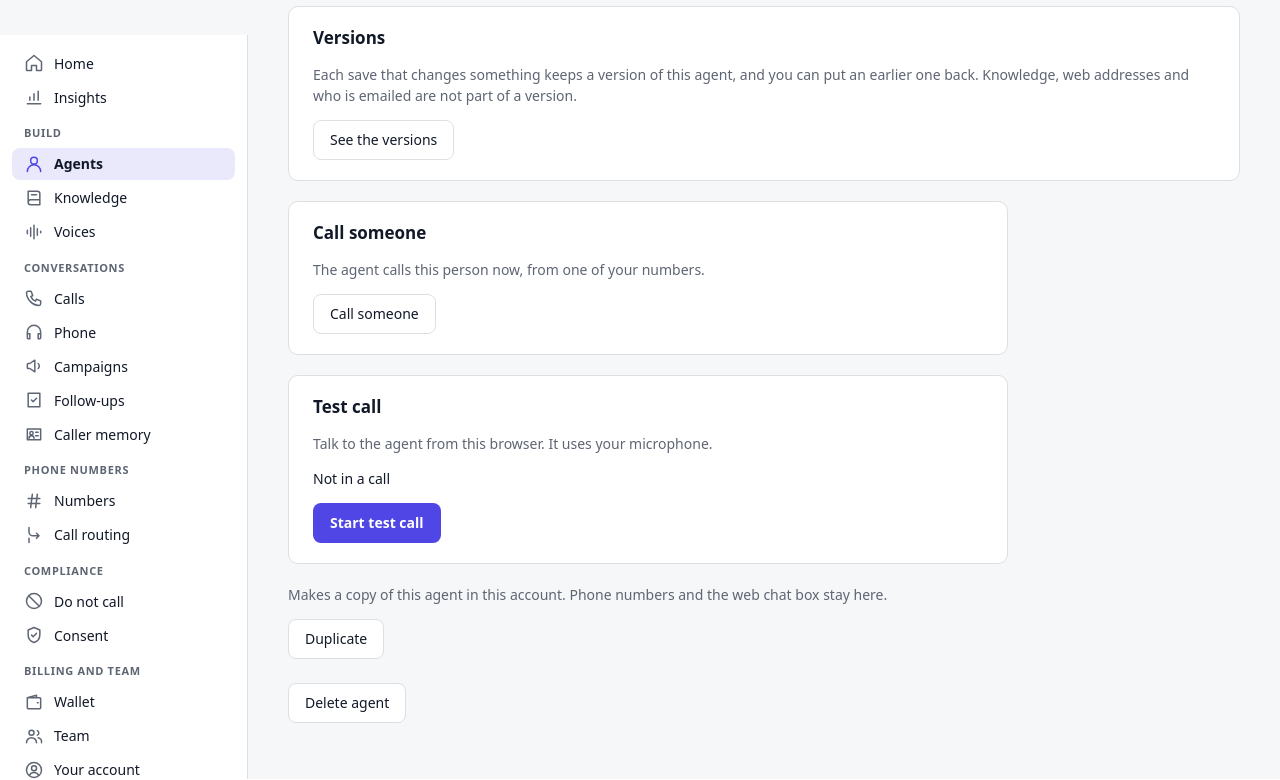
Test case: the test call › joins with exactly the session the backend answered, shows the transcript, and hangs up
(page scrolled)
Expected: the text "Not in a call" is shown, [313, 469, 390, 488]
What coordinates should you click on to do the following:
click the button "Start test call"
I would click on:
 (377, 523)
Its box is [313, 503, 440, 543].
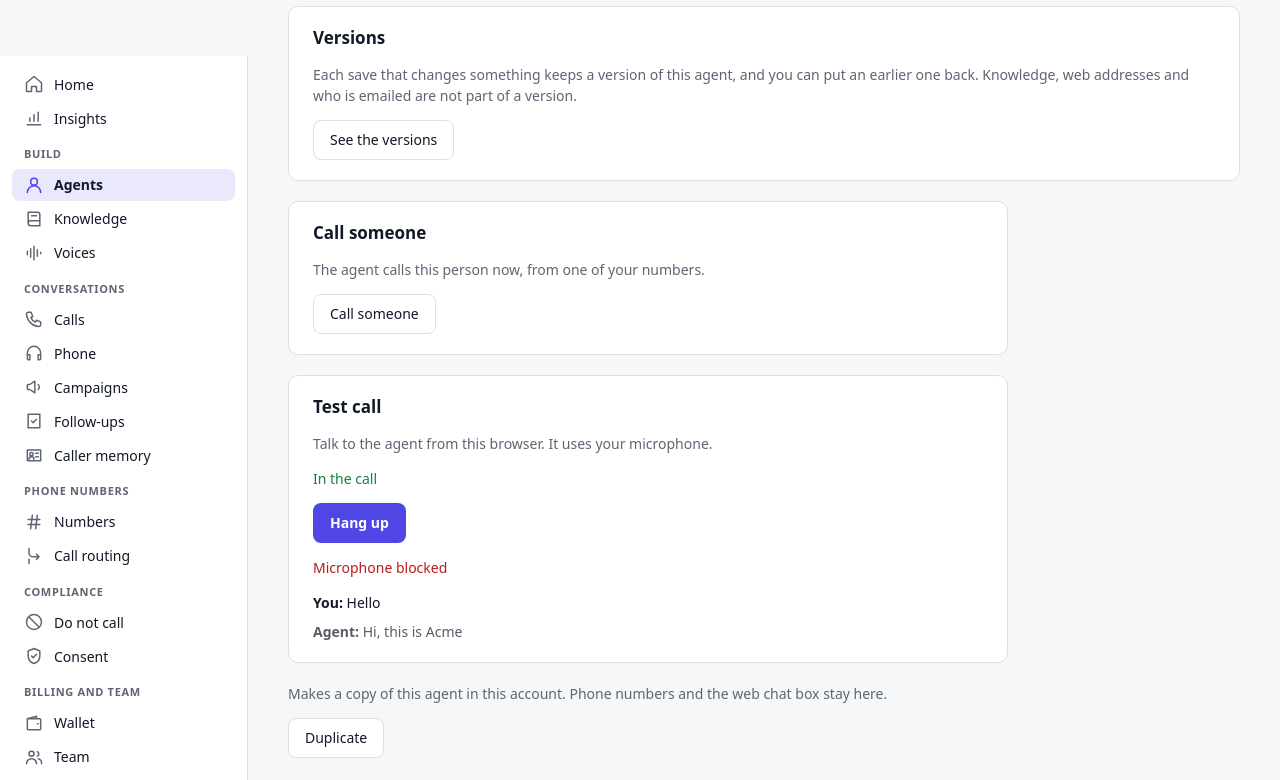
Now the text "In the call" is shown, box [313, 469, 377, 488]
Now the list items read "You: Hello", "Agent: Hi, this is Acme", in this order, box [313, 593, 380, 612]; [313, 622, 462, 641]
Now the message "Microphone blocked" is shown, box [313, 558, 447, 577]
What coordinates should you click on to do the following:
click the button "Hang up"
I would click on:
 (359, 523)
Its box is [313, 503, 406, 543].
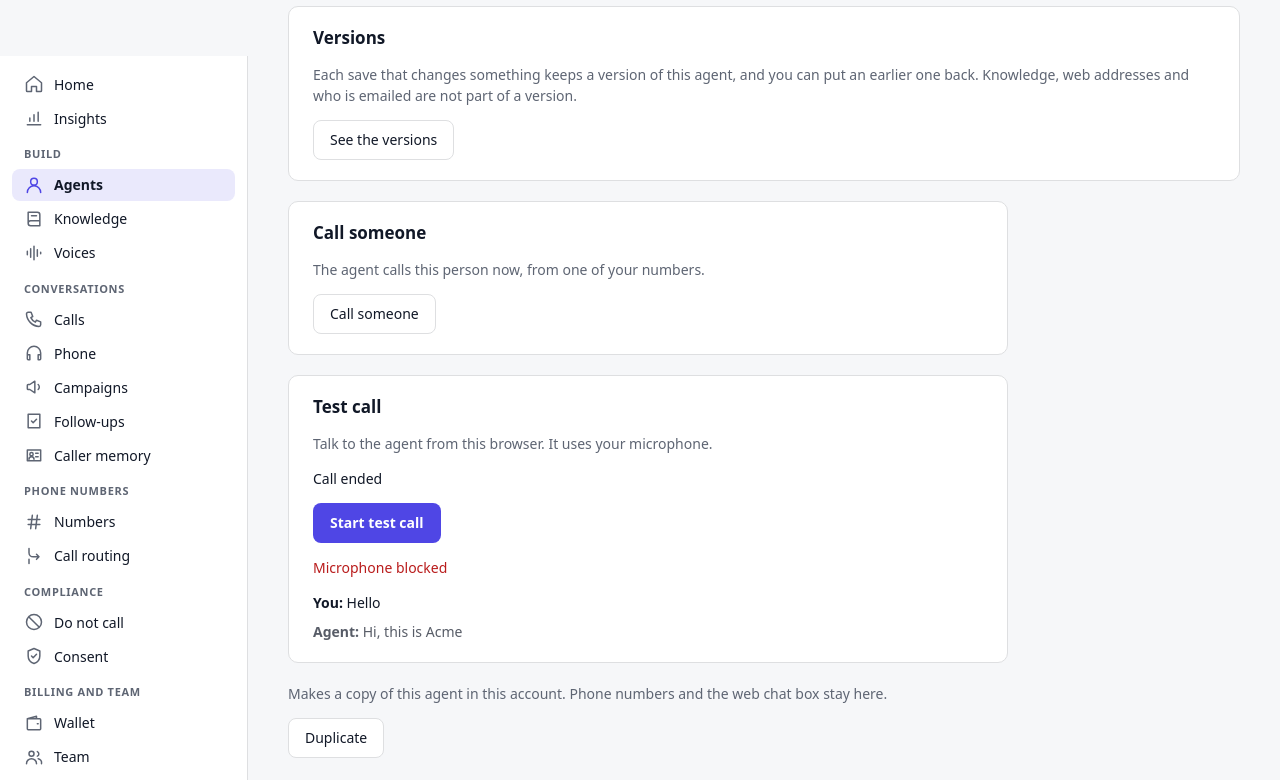
Now the text "Call ended" is shown, box [313, 469, 382, 488]
Now the button "Start test call" is shown, box [313, 503, 440, 543]
